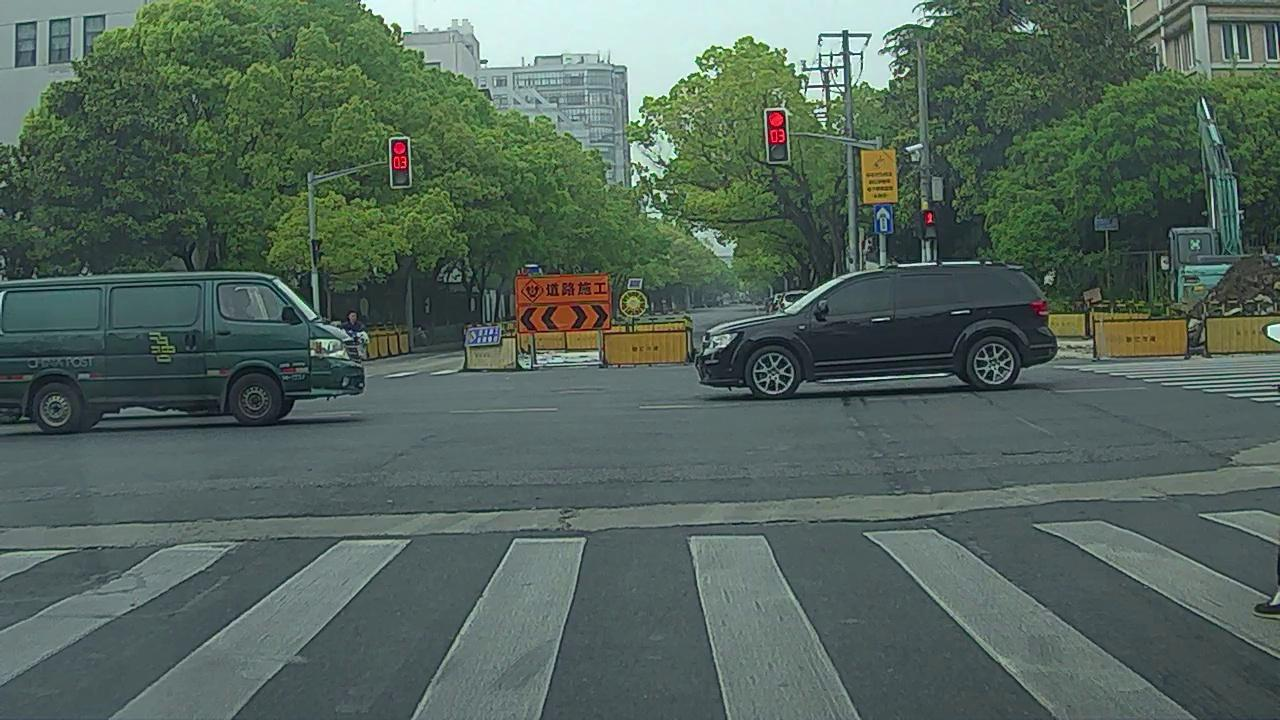traffic_light: (767, 108, 789, 162), (390, 141, 410, 185)
